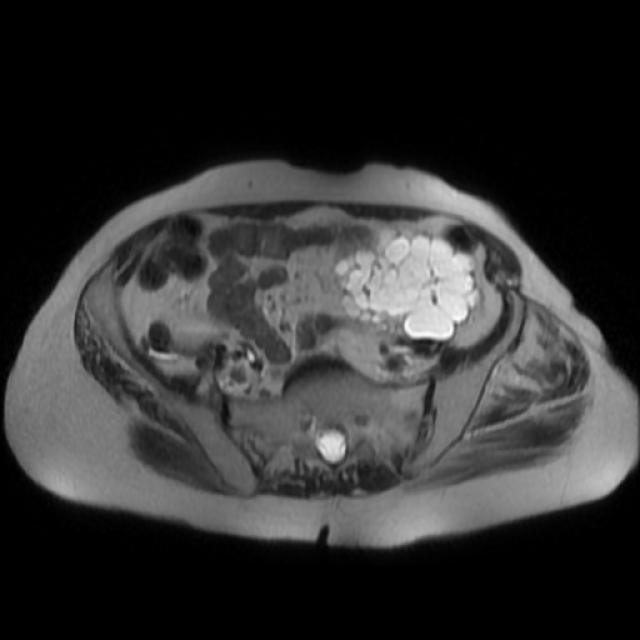sol: (329, 224, 483, 338)
